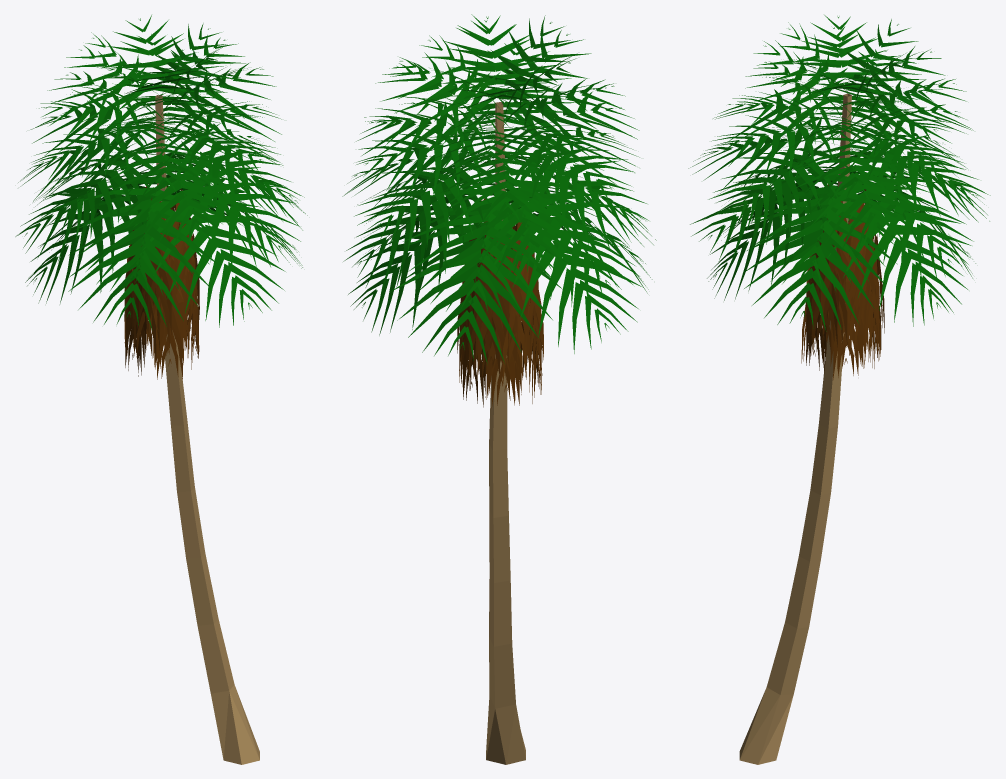
The model's file is Palm.FBX.
The picture shows the model from 3 angles, left to right: view 1: azimuth 30°, elevation 25°; view 2: azimuth 150°, elevation 25°; view 3: azimuth 270°, elevation 25°; orthographic projection. The views are drawn at different scales.
Visible parts, largest first — view 1: Foliage01; view 2: Foliage01; view 3: Foliage01.
Boxes of the visible parts, left/top/right/bottom form: Foliage01: left=15, top=15, right=307, bottom=764; Foliage01: left=342, top=14, right=656, bottom=764; Foliage01: left=688, top=15, right=990, bottom=764.
Size of the model in its own units: 149 by 150 by 380.
